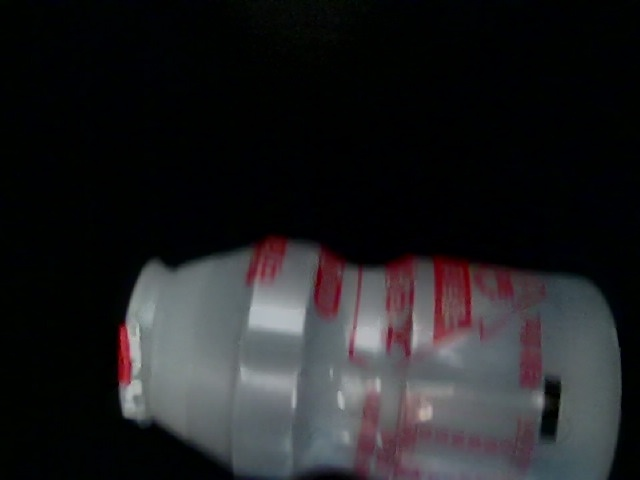CYLJ: (2, 328, 209, 480)
